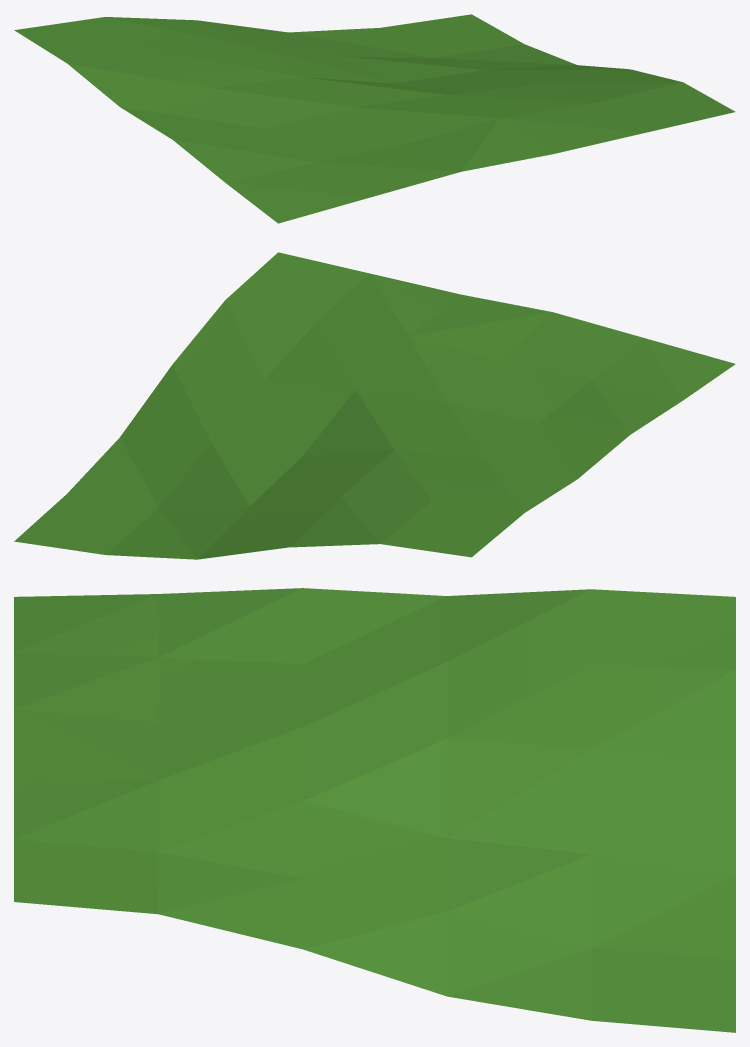
File: terrains_terrain-plane-valley2.fbx
3 views of the same model, one above another, from view 1: azimuth 30°, elevation 25°; view 2: azimuth 150°, elevation 25°; view 3: azimuth 270°, elevation 25° (orthographic). The views are drawn at different scales.
Parts seen in each view (by area): view 1: terrains_terrain_plane_valley2; view 2: terrains_terrain_plane_valley2; view 3: terrains_terrain_plane_valley2.
Boxes of the visible parts, left/top/right/bottom form: terrains_terrain_plane_valley2: left=14, top=14, right=735, bottom=223; terrains_terrain_plane_valley2: left=14, top=252, right=735, bottom=559; terrains_terrain_plane_valley2: left=14, top=588, right=735, bottom=1032.
Bounding box in the file's own units: 200 × 43 × 200.
